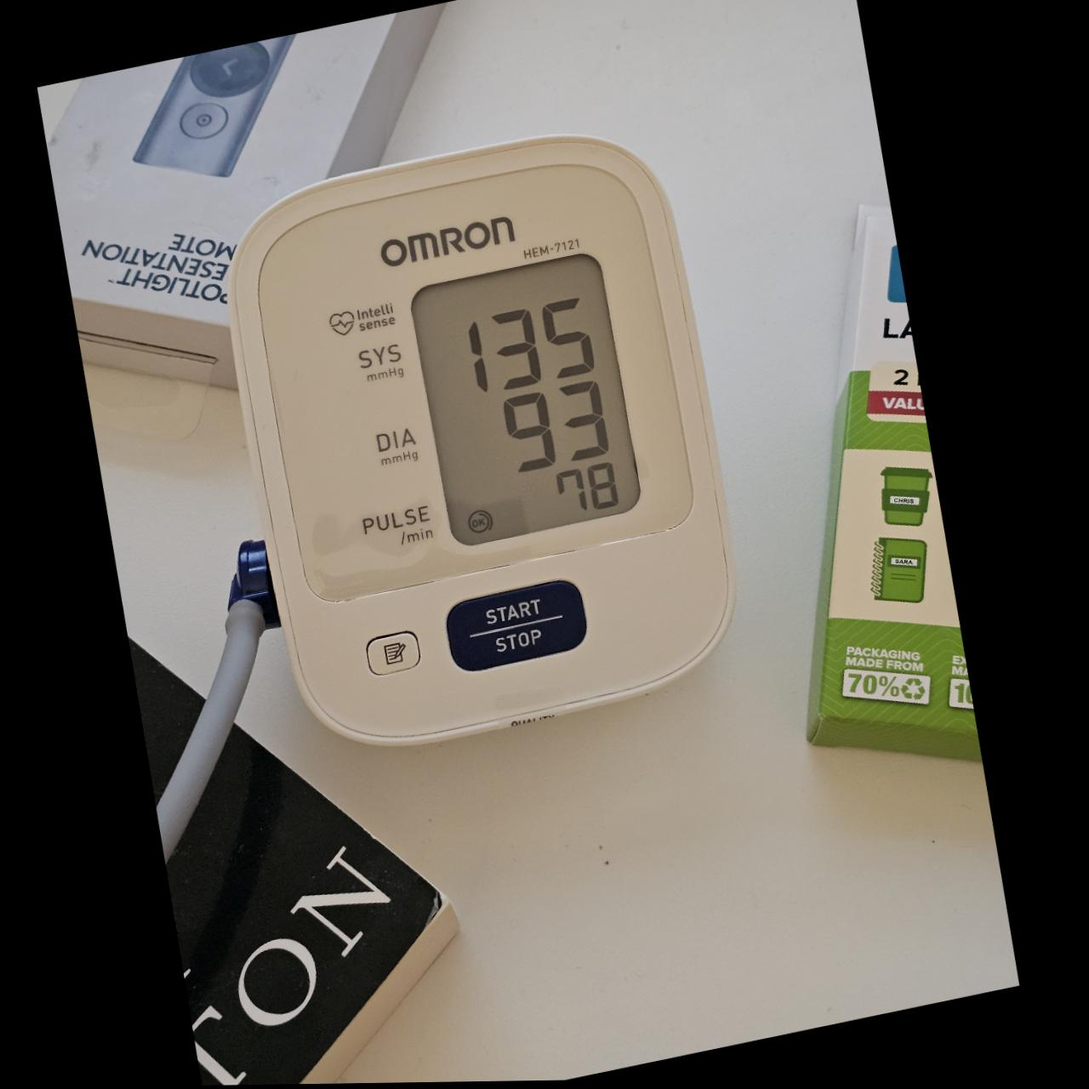blood pressure monitor: (191, 105, 773, 774)
